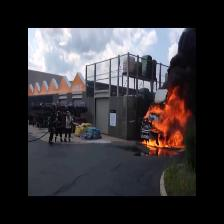fire: (148, 94, 190, 154)
smoke: (165, 38, 197, 89)
